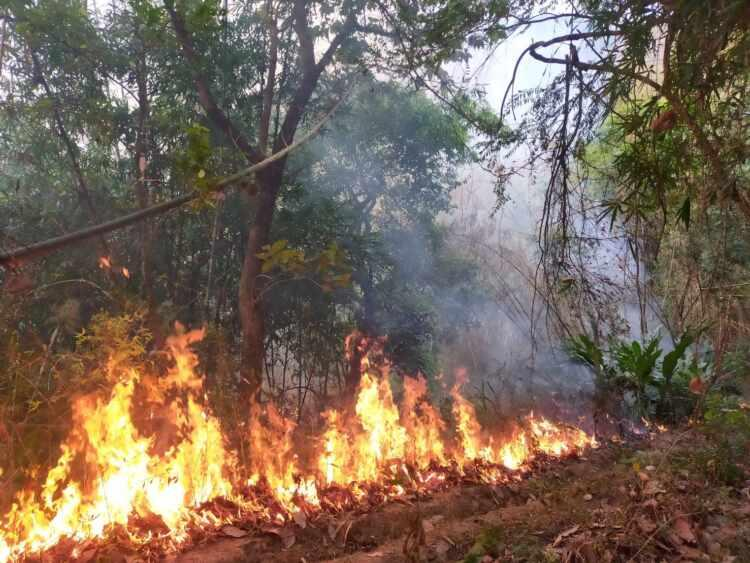fire: (0, 70, 714, 558)
